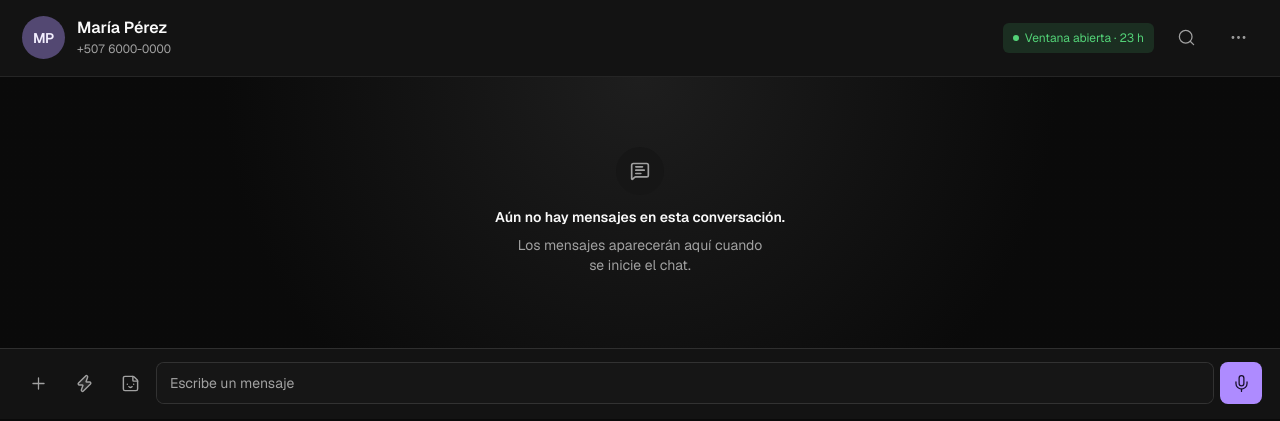
Test: ChatWorkspace › does not report a hidden customer panel as open on a narrow screen
This screenshot has width=1280, height=421.
Click the button named "Más opciones".
click(1238, 38)  # box [1218, 18, 1258, 58]
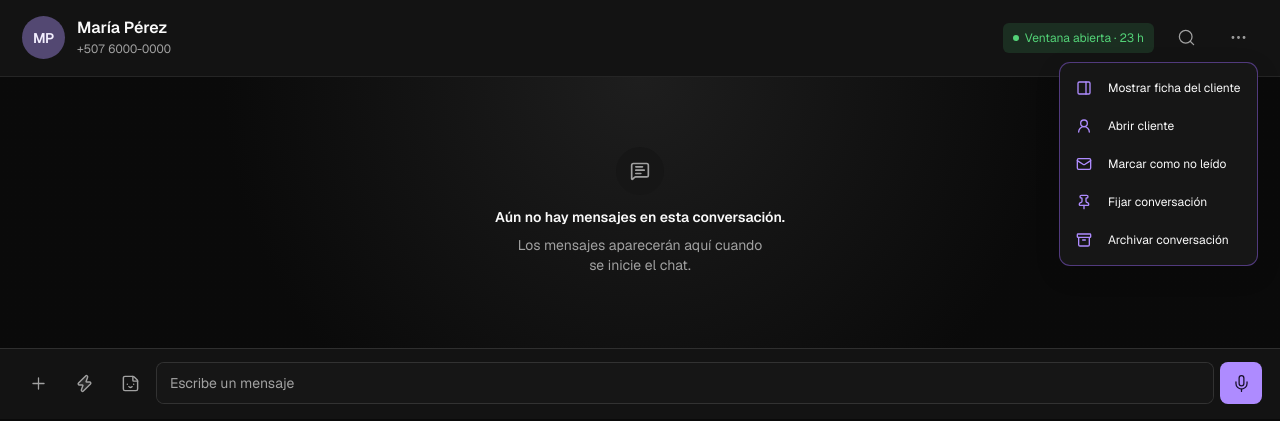
Result: the menu item "Mostrar ficha del cliente" is shown at [1076, 80, 1241, 96]
